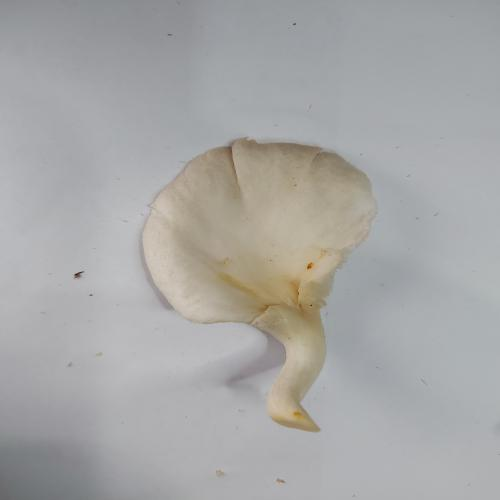Oyster Mushroom: (140, 136, 378, 433)
